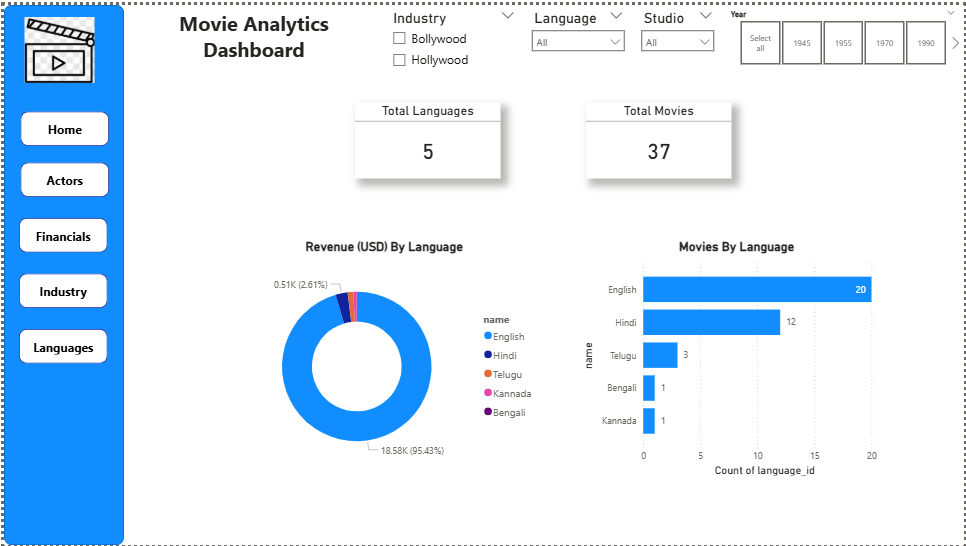

Layout of this report page (visuals, bound fields, positions):
{"tool":"powerbi","page":{"name":"Language Analysis","canvas":[1280,720],"ordinal":5},"visuals":[{"type":"shape","box":[0,0,160,720],"z":0},{"type":"clusteredBarChart","title":"Movies By Language","fields":{"Category":["movie_db languages.name"],"Y":["CountNonNull(movie_db movies.language_id)"]},"box":[766,312,422,320],"z":1000},{"type":"donutChart","title":"Revenue (USD) By Language","fields":{"Category":["movie_db languages.name"],"Y":["Sum(movie_db financials.revenue_in_usd)"]},"box":[296,312,422,320],"z":2000},{"type":"slicer","fields":{"Values":["movie_db movies.industry"]},"box":[506.7,0,186.7,103.3],"z":3000},{"type":"slicer","fields":{"Values":["movie_db languages.name"]},"box":[693.3,0,143.3,103.3],"z":4000},{"type":"slicer","fields":{"Values":["movie_db movies.studio"]},"box":[840,0,116.7,103.3],"z":5000},{"type":"slicer","fields":{"Values":["movie_db movies.Year_Group"]},"box":[956,0,324,86],"z":6000},{"type":"textbox","box":[160.7,0,346.2,104.4],"z":7000},{"type":"image","box":[10,16,128,88],"z":8000},{"type":"actionButton","title":"Financials","box":[22,142,118,46],"z":9000},{"type":"actionButton","title":"Financials","box":[22,210,118,46],"z":10000},{"type":"actionButton","title":"Financials","box":[20,284,118,46],"z":11000},{"type":"actionButton","title":"Financials","box":[20,358,118,46],"z":12000},{"type":"actionButton","title":"Financials","box":[20,432,118,46],"z":13000},{"type":"card","title":"Total Languages","fields":{"Values":["Count(movie_db movies.language_id)"]},"box":[467.4,129.5,194.2,101.1],"z":14000},{"type":"card","title":"Total Movies","fields":{"Values":["CountNonNull(movie_db movies.movie_id)"]},"box":[776.9,129.5,194.2,101.1],"z":15000}]}

Visuals, with their boxes in screenshot pixels (x1, y1, x2, y2), scaled from the page's 1280x720 canvas onto the 966x546 screenshot:
shape: rect(0, 0, 121, 545)
"Movies By Language" clusteredBarChart: rect(578, 237, 897, 479)
"Revenue (USD) By Language" donutChart: rect(223, 237, 542, 479)
slicer - movie_db movies.industry: rect(382, 0, 523, 78)
slicer - movie_db languages.name: rect(523, 0, 631, 78)
slicer - movie_db movies.studio: rect(634, 0, 722, 78)
slicer - movie_db movies.Year_Group: rect(721, 0, 965, 65)
textbox: rect(121, 0, 383, 79)
image: rect(8, 12, 104, 79)
"Financials" actionButton: rect(17, 108, 106, 143)
"Financials" actionButton: rect(17, 159, 106, 194)
"Financials" actionButton: rect(15, 215, 104, 250)
"Financials" actionButton: rect(15, 271, 104, 306)
"Financials" actionButton: rect(15, 328, 104, 362)
"Total Languages" card: rect(353, 98, 499, 175)
"Total Movies" card: rect(586, 98, 733, 175)
